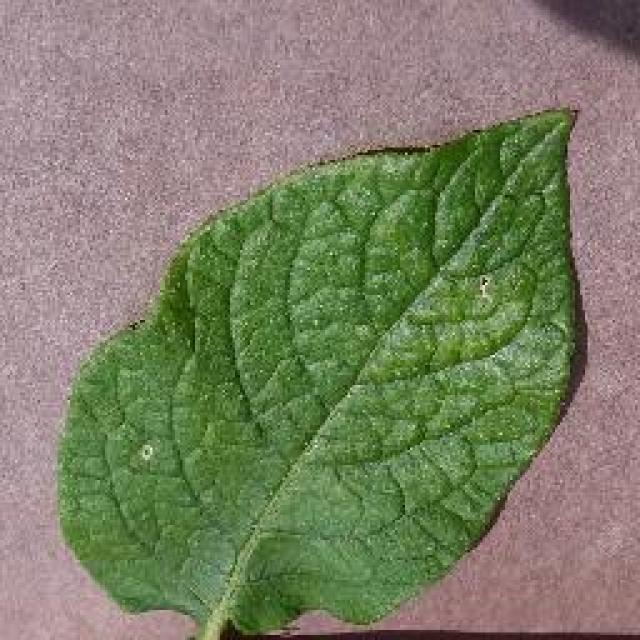healthy: (50, 100, 588, 638)
